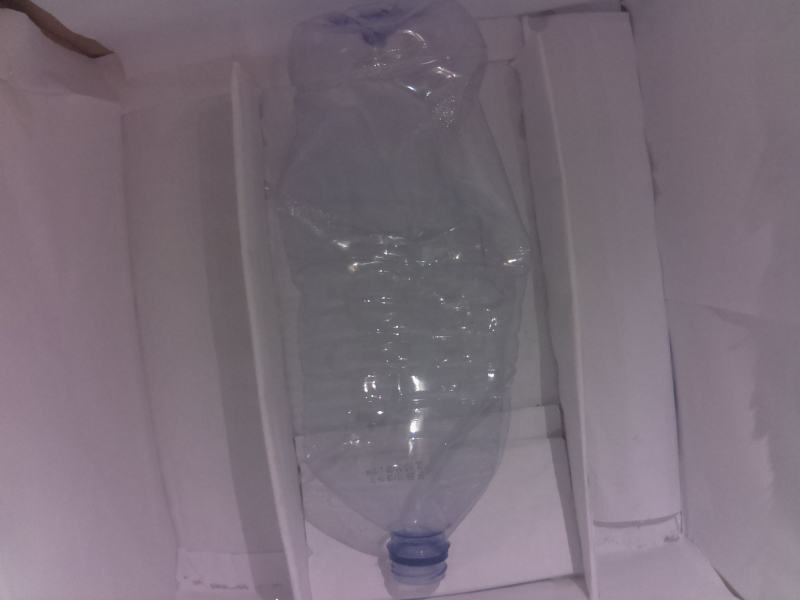botolplastik: (287, 1, 528, 577)
